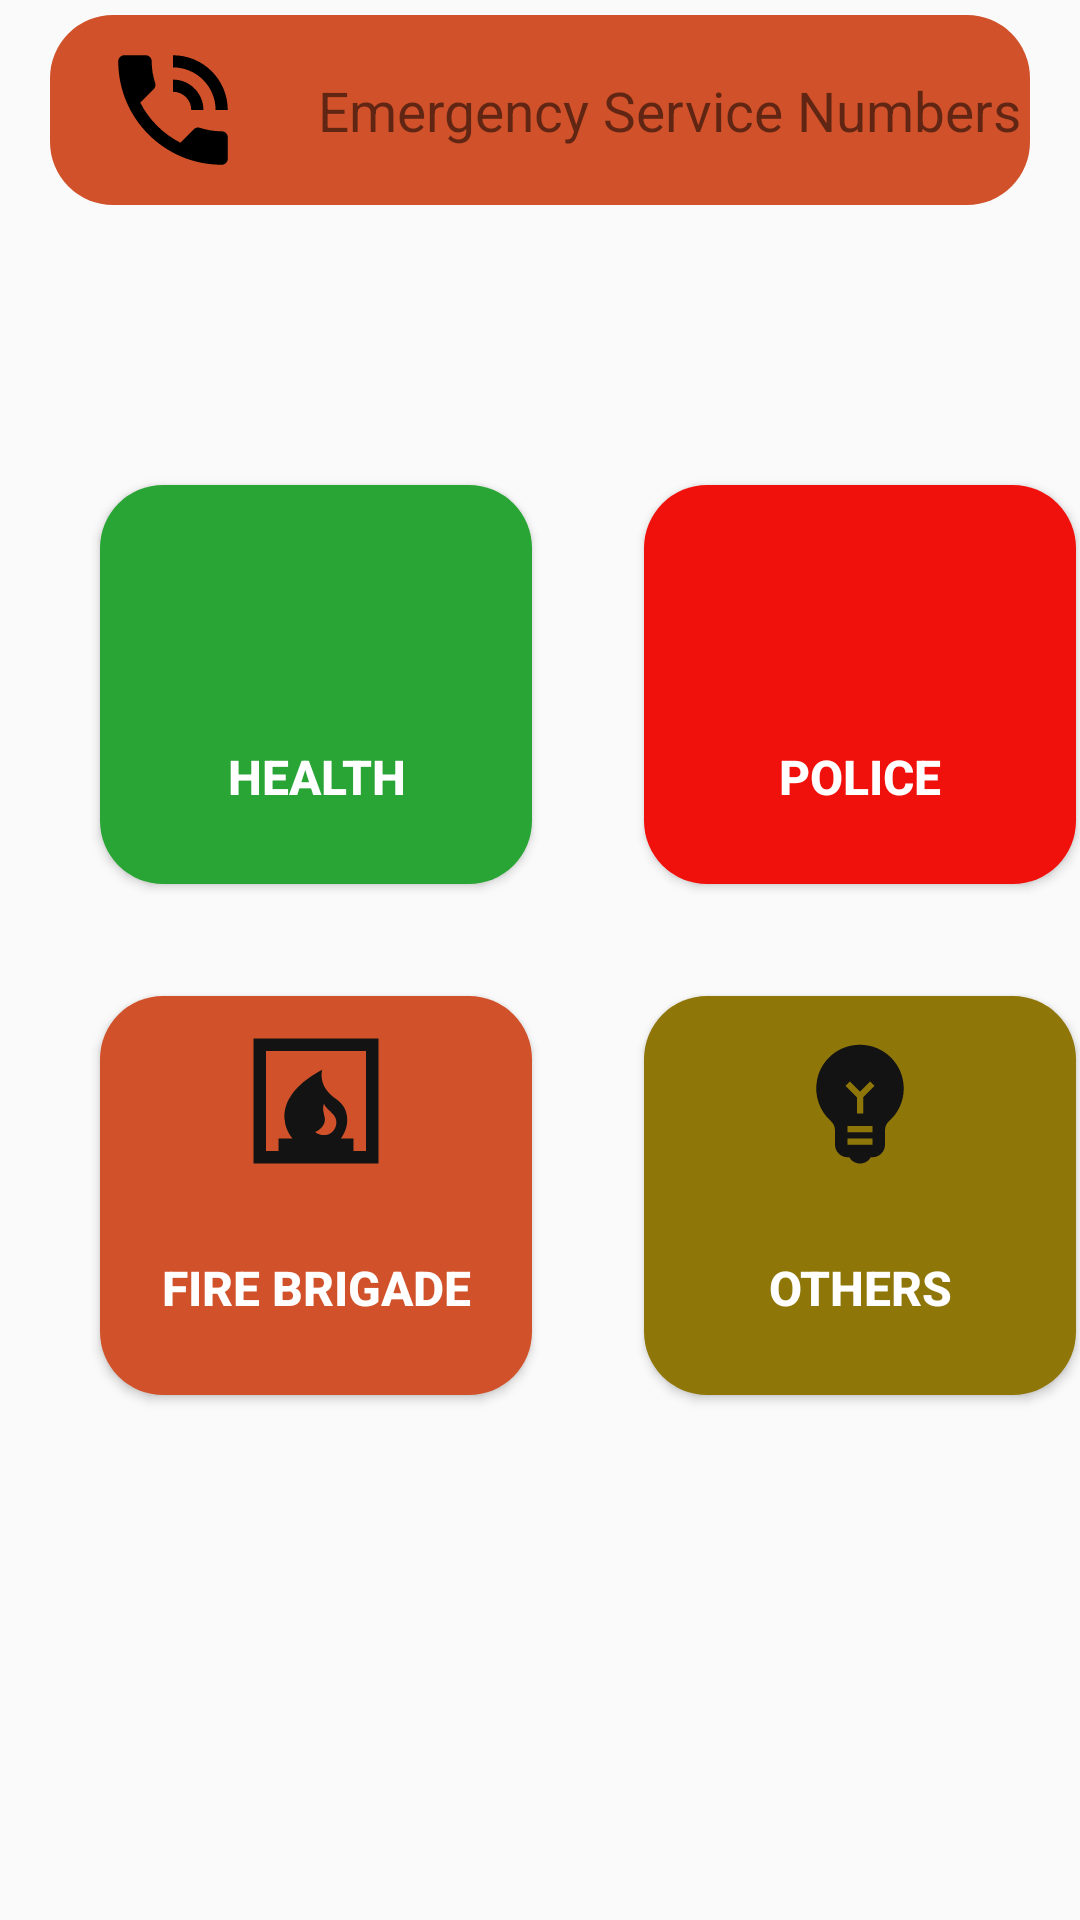

Icon bounding boxes for this 1080px×1920px phone screenshot, format (x1, y1, x2, y2):
phone in talk: (118, 55, 228, 165)
